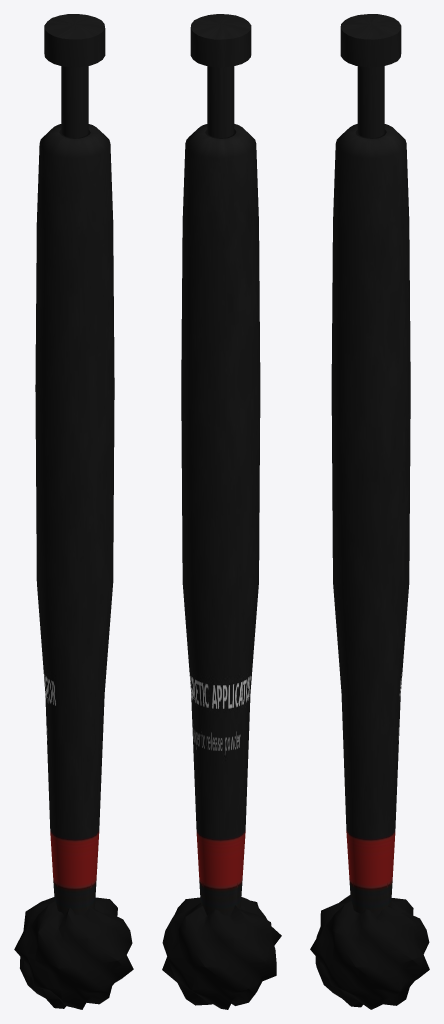
File: MagneticWand.obj
3 views of the same model, side by side, from view 1: azimuth 30°, elevation 25°; view 2: azimuth 150°, elevation 25°; view 3: azimuth 330°, elevation 25° (orthographic).
Visible parts, largest first — view 1: WandBody, PowderBall; view 2: WandBody, PowderBall; view 3: WandBody, PowderBall.
Boxes of the visible parts, x1,y1,x2,y2 form: WandBody: (35,14,114,915); PowderBall: (14,897,133,1009); WandBody: (181,14,260,915); PowderBall: (162,897,281,1009); WandBody: (331,14,410,916); PowderBall: (310,895,429,1009).
Size of the model in its own units: 0.0198 by 0.1764 by 0.019.
2 materials, 1 textured.
